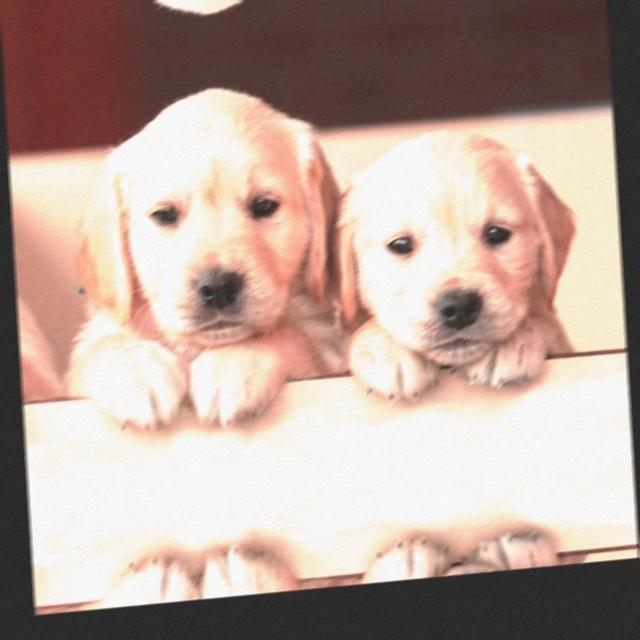dog: (52, 89, 341, 462), (320, 77, 576, 450), (77, 513, 350, 610), (344, 478, 584, 584)
